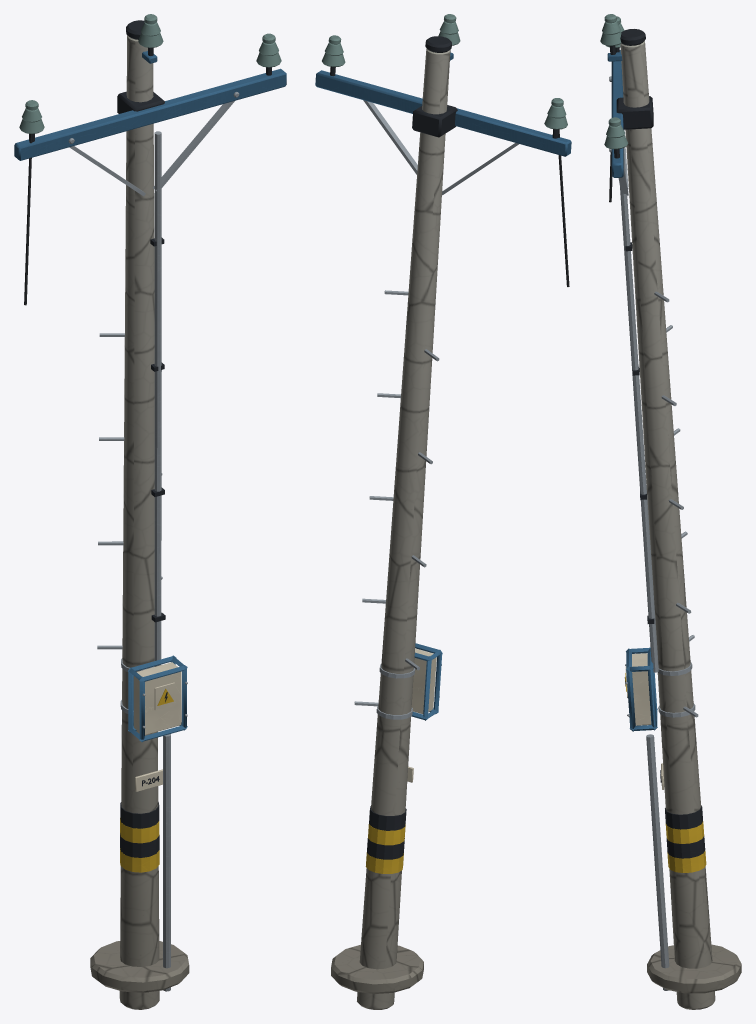
Rendered from power_pole.glb.
3 renders of one model, left to right at view 1: azimuth 30°, elevation 25°; view 2: azimuth 150°, elevation 25°; view 3: azimuth 270°, elevation 25°, orthographic. The views are drawn at different scales.
Parts seen in each view (by area): view 1: power_pole; view 2: power_pole; view 3: power_pole.
Boxes of the visible parts, x1,y1,x2,y2 form: power_pole: (14, 14, 286, 1009); power_pole: (315, 14, 571, 1009); power_pole: (600, 14, 741, 1009).
Bounding box in the file's own units: 2.6 × 9.53 × 1.26.
14 materials, 14 textured.
